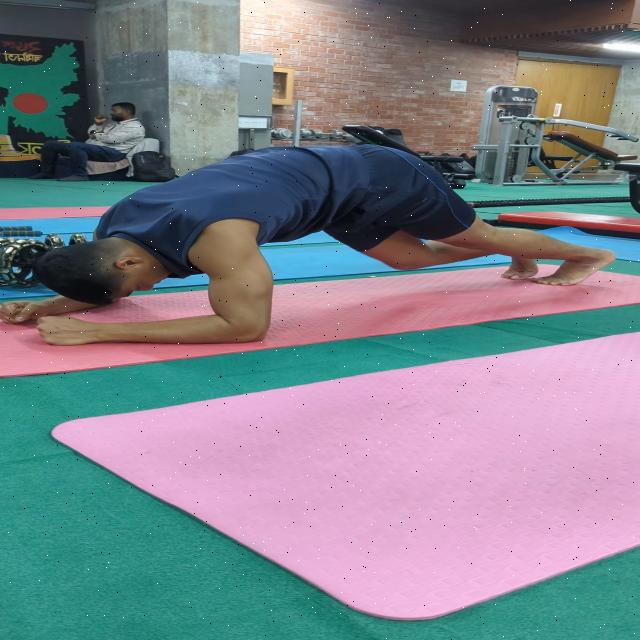Normal_MountainClimbers: (0, 118, 621, 351)
